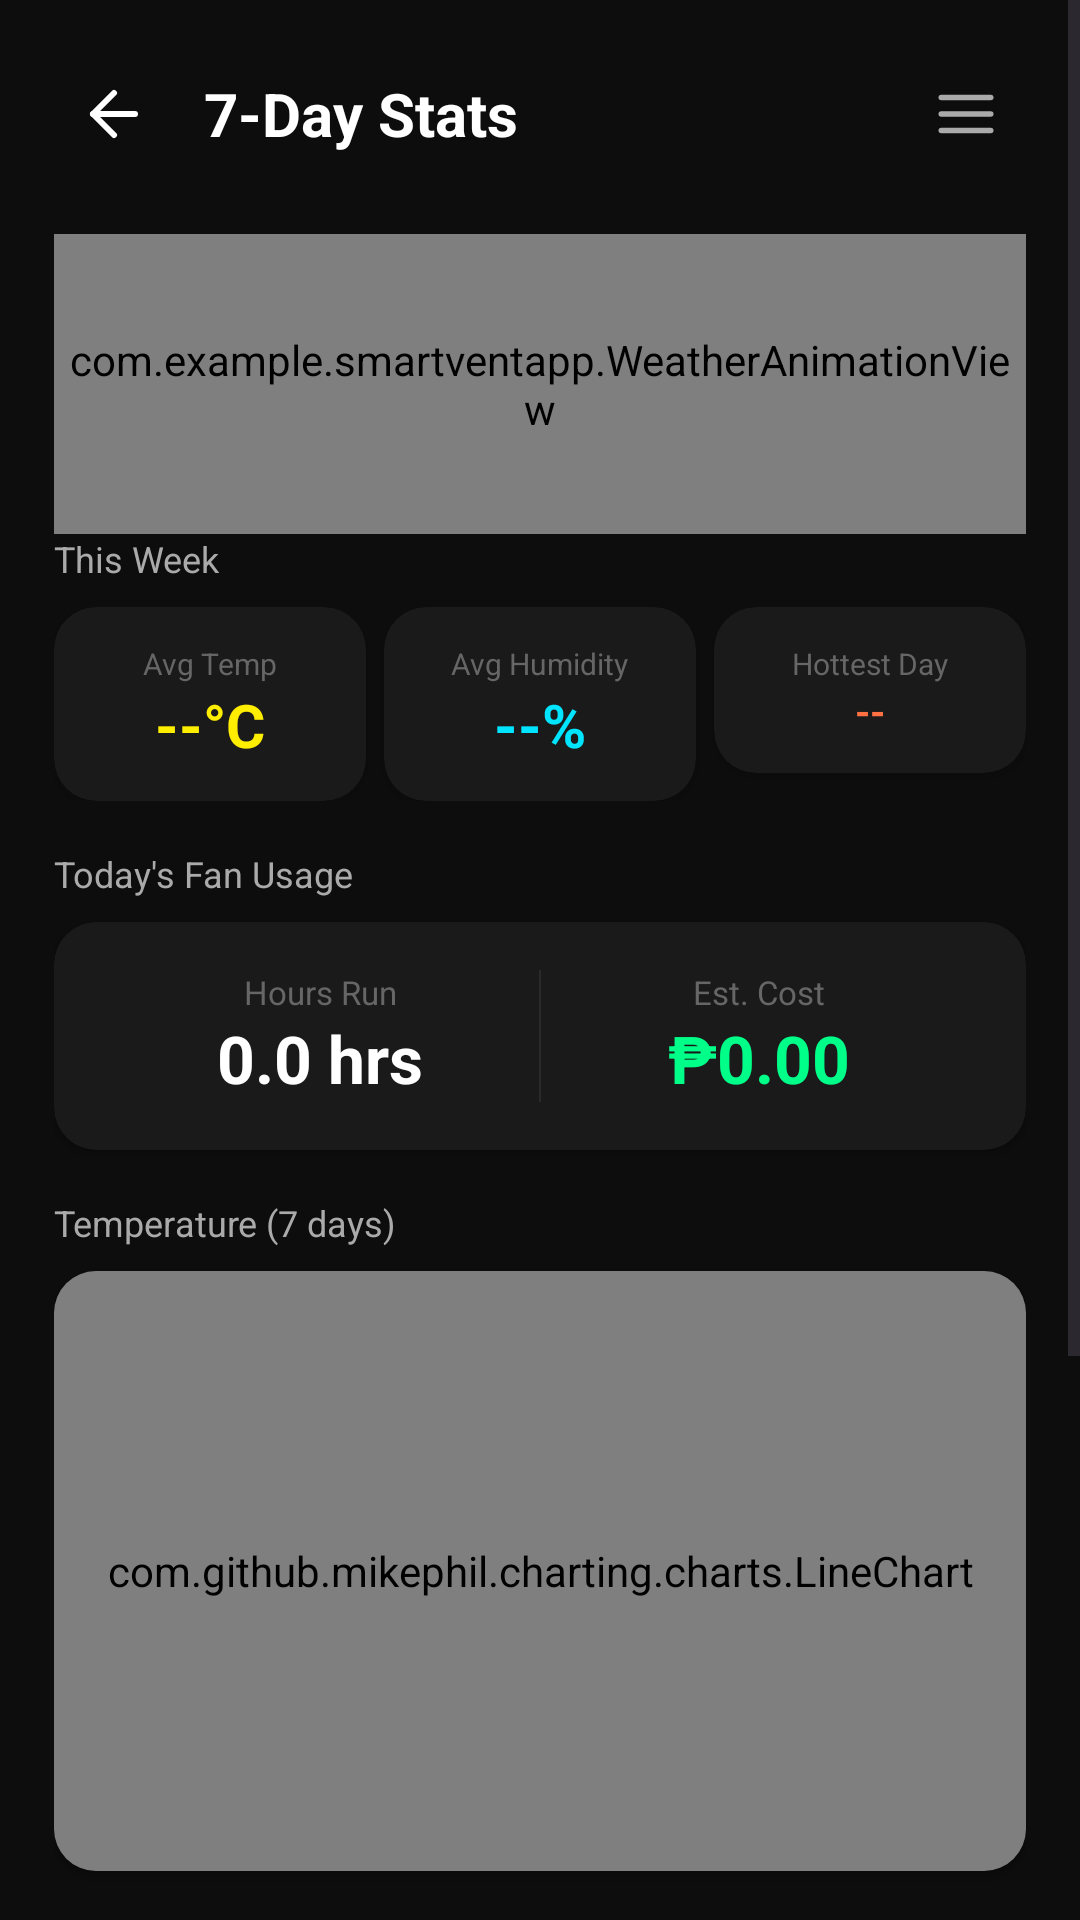

Locate icon controls on the screen. Image size 1080 x 1920, boxes as (x1, y1, x2, y2).
back: (90, 90, 138, 138)
menu: (938, 94, 994, 134)
